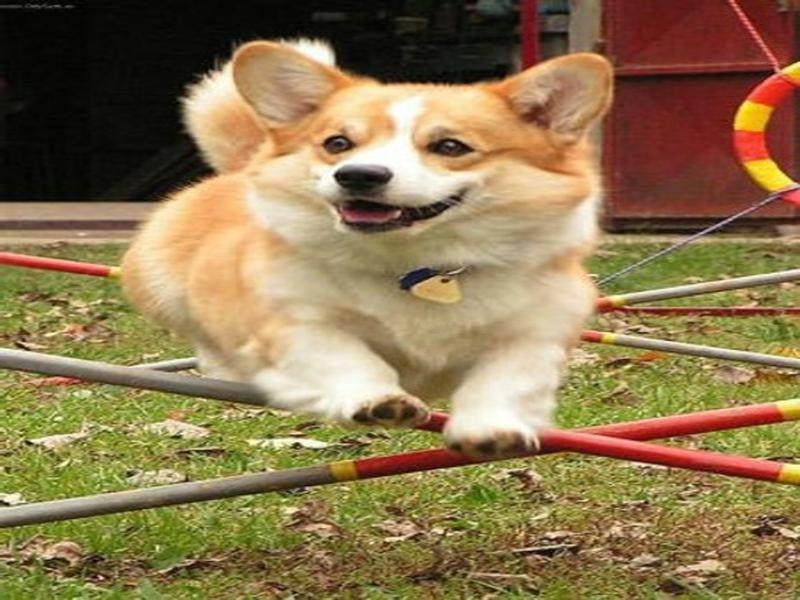corgi: (231, 40, 616, 237)
